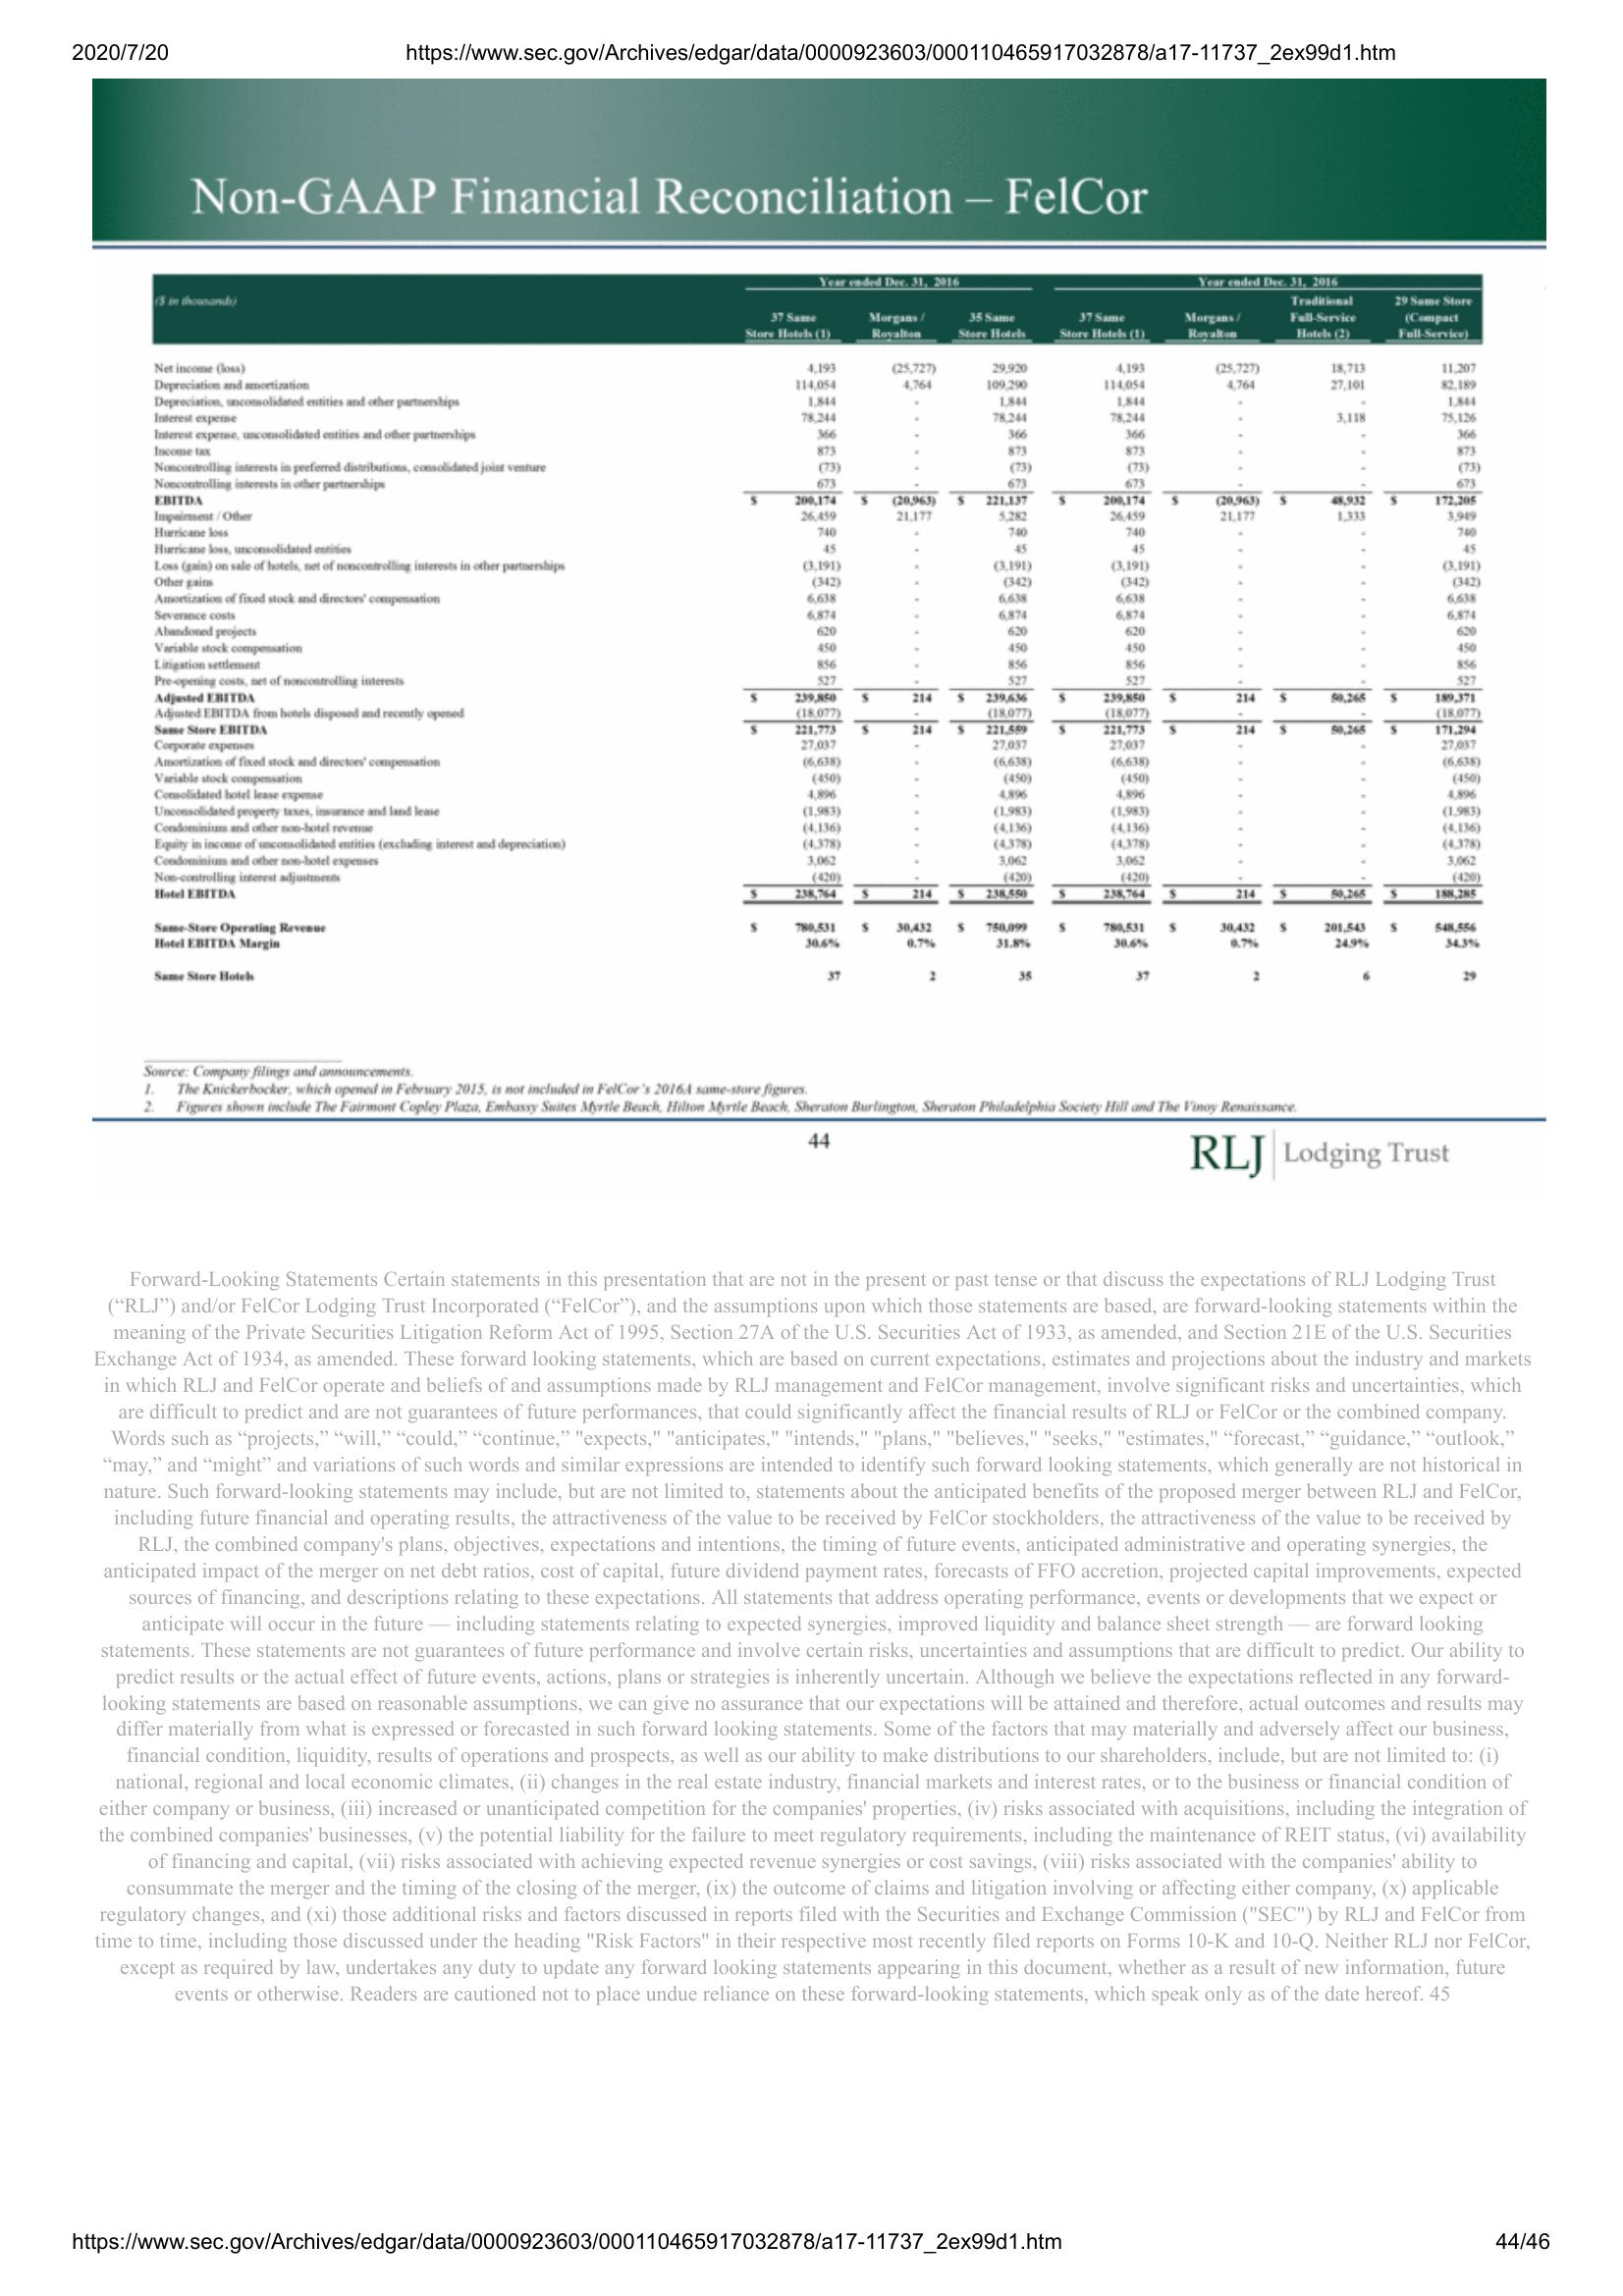table: (151, 274, 1488, 983)
